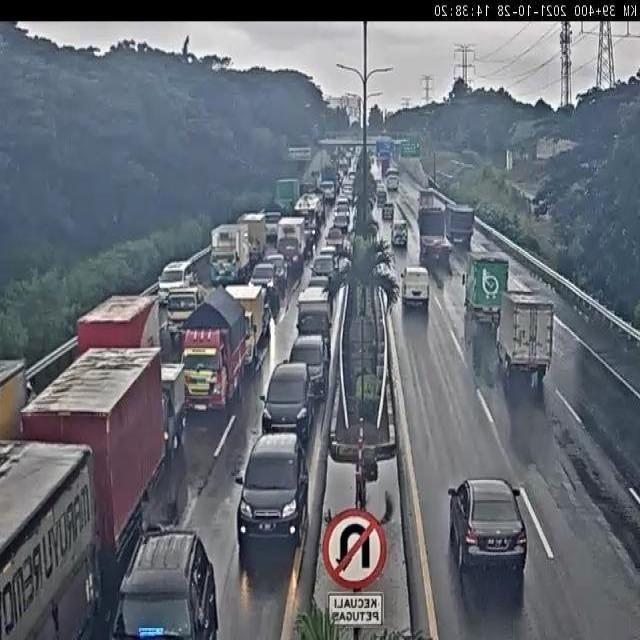Bus: (386, 168, 401, 193)
Car: (112, 526, 220, 638), (234, 432, 310, 564), (448, 477, 528, 585), (258, 362, 313, 444), (289, 333, 326, 404), (157, 260, 200, 306), (247, 263, 280, 301), (310, 252, 338, 288), (265, 253, 292, 287), (304, 273, 332, 304), (326, 227, 344, 252), (332, 210, 350, 234), (342, 179, 356, 206), (381, 202, 394, 220), (376, 190, 387, 206), (348, 166, 357, 183), (376, 183, 385, 193)
Truck: (19, 347, 168, 560), (0, 439, 101, 640), (179, 284, 245, 410), (76, 295, 162, 362), (499, 290, 552, 373), (223, 284, 269, 374), (462, 252, 511, 332), (210, 222, 252, 285), (167, 282, 212, 339), (162, 363, 187, 453), (296, 286, 332, 346), (417, 205, 452, 264), (276, 217, 306, 270), (237, 212, 268, 263), (294, 193, 324, 242), (446, 204, 476, 251), (263, 200, 292, 246), (271, 176, 301, 215), (318, 165, 338, 202), (417, 188, 436, 208), (335, 196, 351, 217), (318, 245, 337, 262), (382, 158, 392, 178)
Van: (401, 266, 430, 312), (391, 218, 408, 246)
